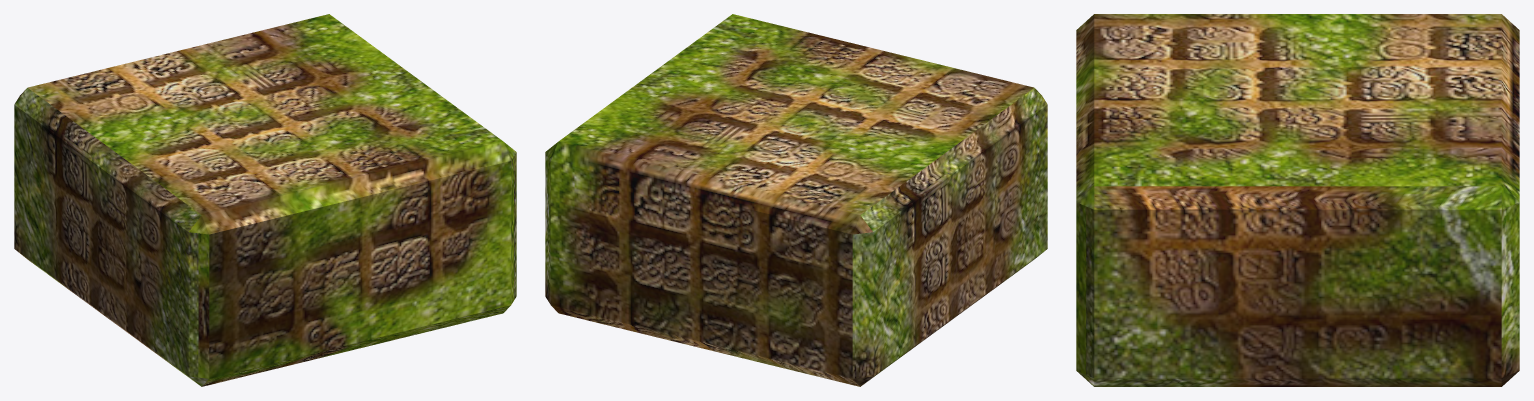
Rendered from cubo_001.FBX.
3 views of the same model, side by side, from view 1: azimuth 30°, elevation 25°; view 2: azimuth 150°, elevation 25°; view 3: azimuth 270°, elevation 25° (orthographic). The views are drawn at different scales.
Parts seen in each view (by area): view 1: cubo2; view 2: cubo2; view 3: cubo2.
Part boxes in pixels (x1,y1,x2,y2): cubo2: (14, 14, 516, 386); cubo2: (545, 14, 1047, 386); cubo2: (1076, 14, 1519, 386).
Size of the model in its own units: 1 by 0.5 by 1.
